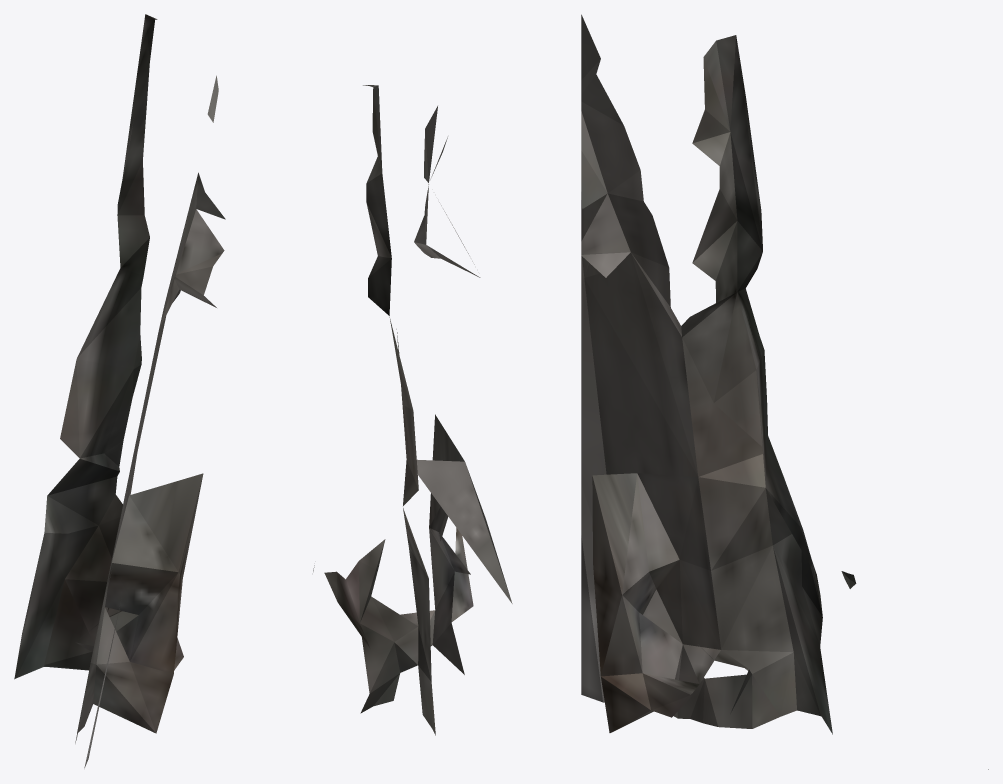
3 views of the same model, side by side, from view 1: azimuth 30°, elevation 25°; view 2: azimuth 150°, elevation 25°; view 3: azimuth 270°, elevation 25° (orthographic). The views are drawn at different scales.
Bounding box in the file's own units: 0.2487 × 1.17 × 0.5694.
Materials: 1 (1 with a texture image).
